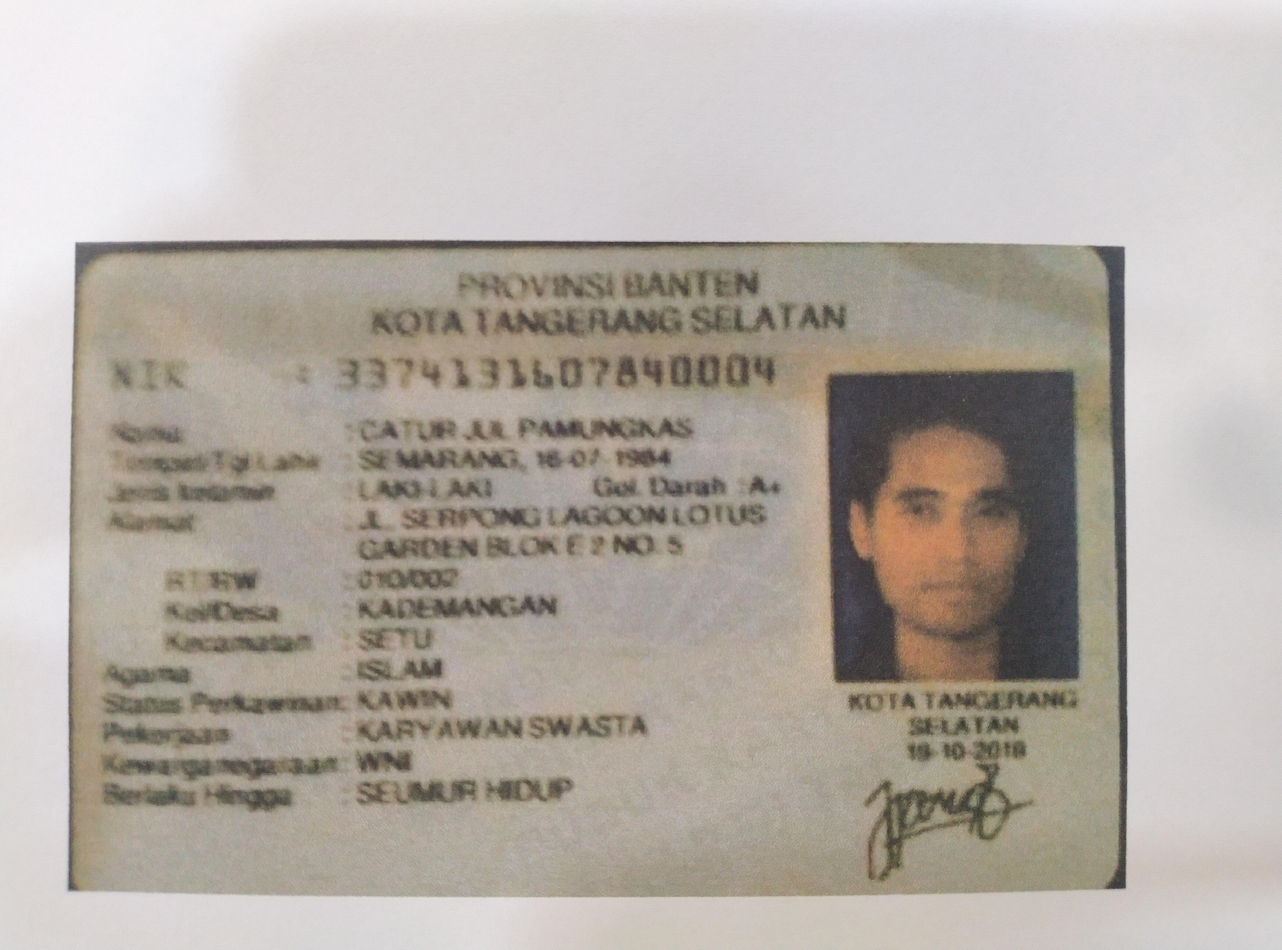ID-card: (74, 246, 1124, 882)
